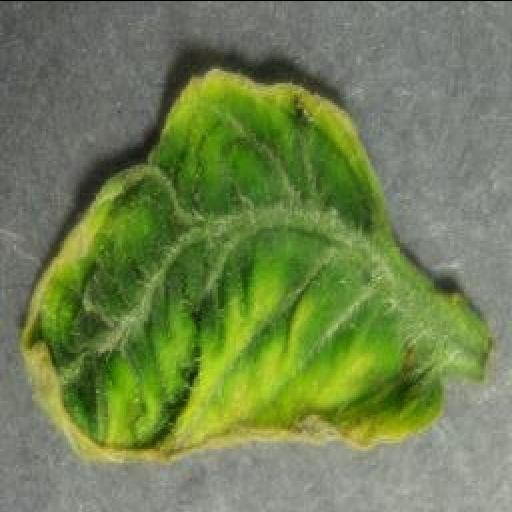disease_tomato: (24, 66, 446, 458)
